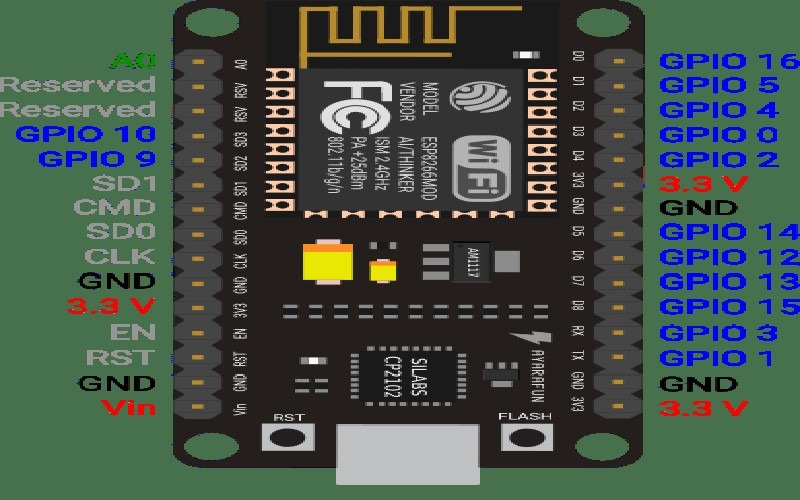IoT Sensor: (166, 3, 652, 500)
